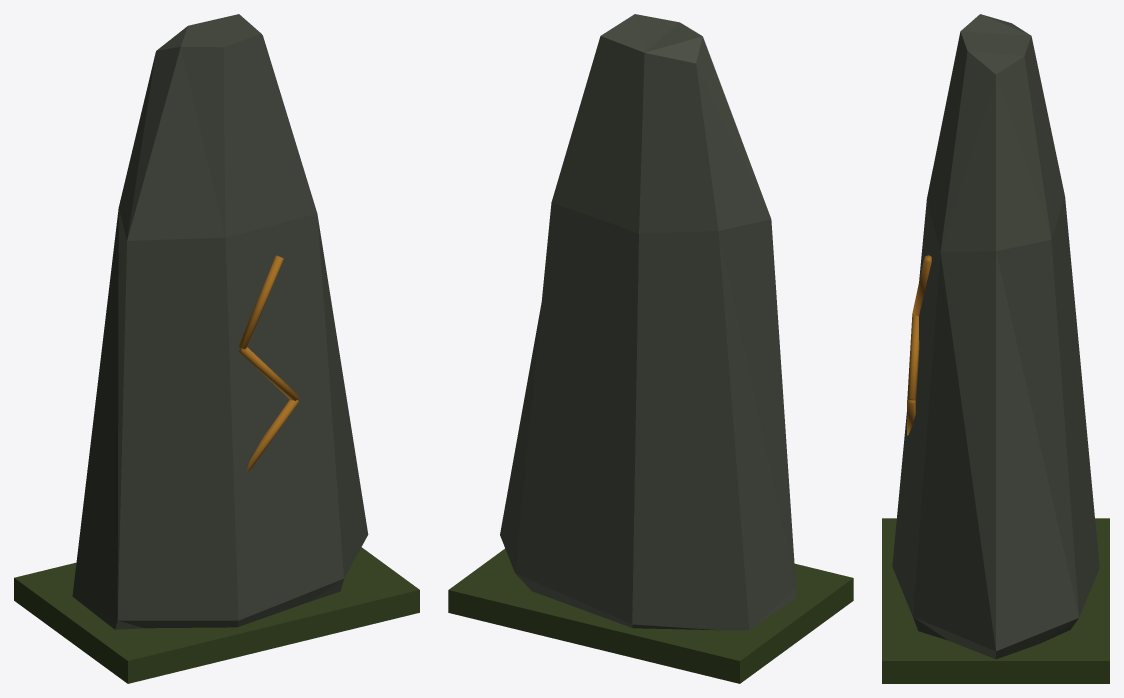
File: StandingStone.fbx
3 views of the same model, side by side, from view 1: azimuth 30°, elevation 25°; view 2: azimuth 150°, elevation 25°; view 3: azimuth 270°, elevation 25° (orthographic).
Parts seen in each view (by area): view 1: StandingStone_LOD0; view 2: StandingStone_LOD0; view 3: StandingStone_LOD0.
Boxes of the visible parts, <box> form: StandingStone_LOD0: <box>14,14,419,683</box>; StandingStone_LOD0: <box>448,14,853,683</box>; StandingStone_LOD0: <box>882,14,1109,683</box>.
Size of what is drawn, in the model's own units: 2.04 by 3.84 by 1.35.
